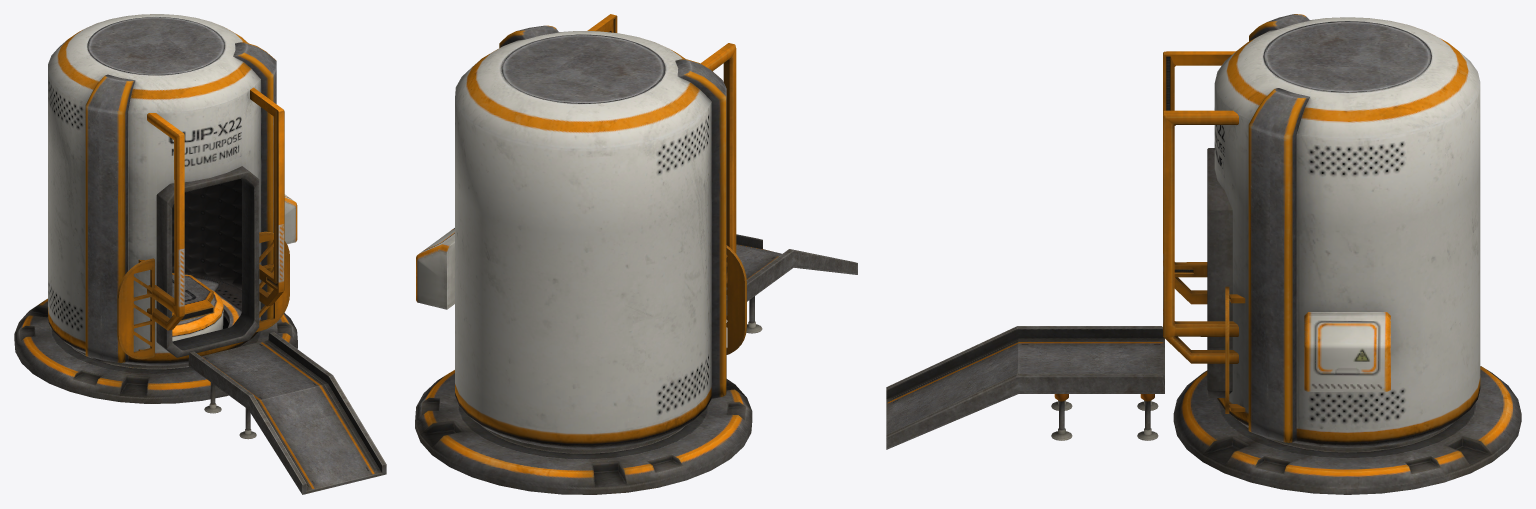
Rendered from 02_06_scan_chamber.dae.
3 views of the same model, side by side, from view 1: azimuth 30°, elevation 25°; view 2: azimuth 150°, elevation 25°; view 3: azimuth 270°, elevation 25° (orthographic). The views are drawn at different scales.
Parts seen in each view (by area): view 1: chamber, interactabes; view 2: chamber; view 3: chamber.
Boxes of the visible parts, left/top/right/bottom form: chamber: left=14, top=14, right=386, bottom=494; interactabes: left=172, top=273, right=214, bottom=321; chamber: left=415, top=14, right=857, bottom=494; chamber: left=886, top=14, right=1521, bottom=494.
Bounding box in the file's own units: 5.19 × 6.02 × 9.39.
